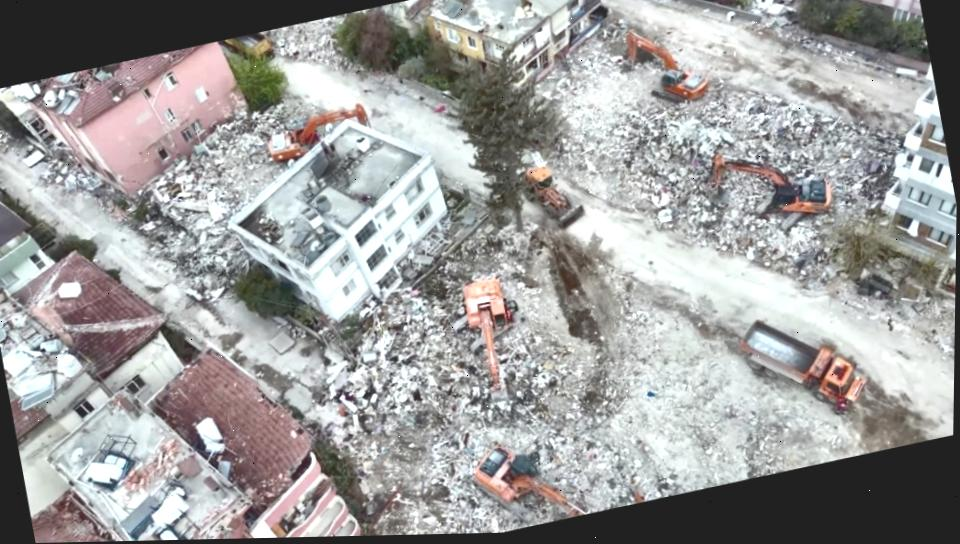kapali: (258, 332, 545, 534)
